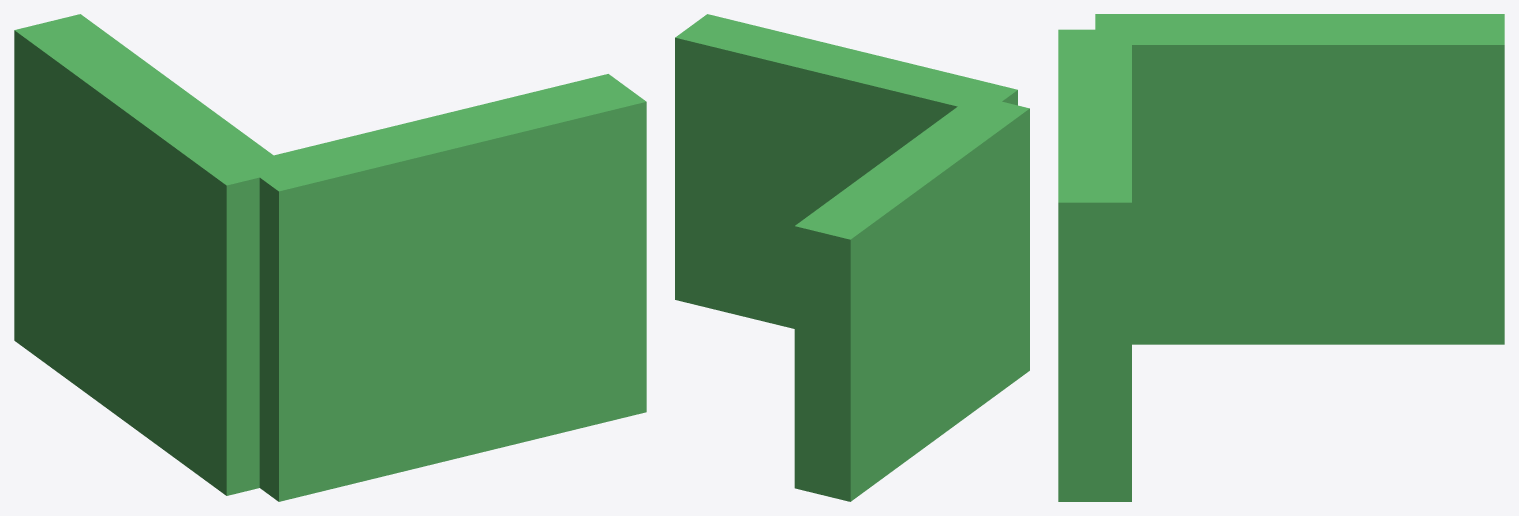
File: ruin_wallrun_corner_inner_collision.glb
3 renders of one model, left to right at view 1: azimuth 30°, elevation 25°; view 2: azimuth 150°, elevation 25°; view 3: azimuth 270°, elevation 25°, orthographic. The views are drawn at different scales.
Parts seen in each view (by area): view 1: ruin_wallrun_corner_inner_x_wall-col, ruin_wallrun_corner_inner_y_wall-col; view 2: ruin_wallrun_corner_inner_y_wall-col, ruin_wallrun_corner_inner_x_wall-col; view 3: ruin_wallrun_corner_inner_y_wall-col, ruin_wallrun_corner_inner_x_wall-col.
Boxes of the visible parts, bbox=[...] form: ruin_wallrun_corner_inner_x_wall-col: bbox=[241, 74, 646, 501]; ruin_wallrun_corner_inner_y_wall-col: bbox=[14, 14, 273, 495]; ruin_wallrun_corner_inner_y_wall-col: bbox=[794, 96, 1029, 501]; ruin_wallrun_corner_inner_x_wall-col: bbox=[675, 14, 1017, 328]; ruin_wallrun_corner_inner_y_wall-col: bbox=[1095, 14, 1504, 344]; ruin_wallrun_corner_inner_x_wall-col: bbox=[1058, 29, 1131, 501].
Bounding box in the file's own units: 3.27 × 2.42 × 3.27.
